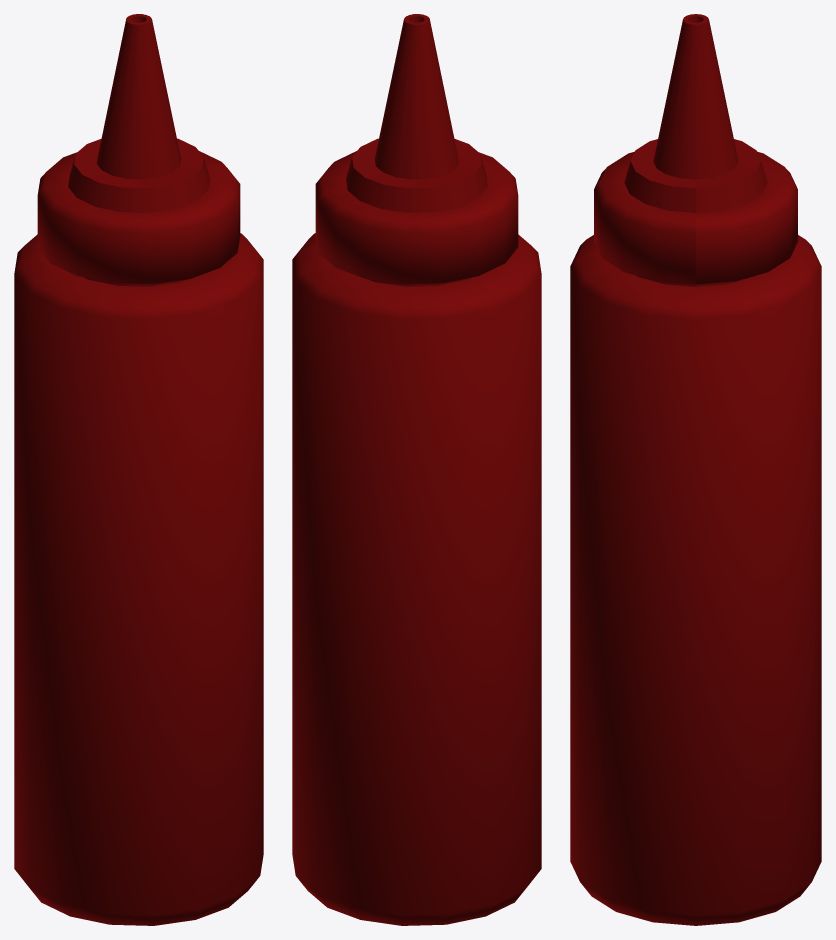
File: BottleKetchup.fbx
The picture shows the model from 3 angles, left to right: view 1: azimuth 30°, elevation 25°; view 2: azimuth 150°, elevation 25°; view 3: azimuth 270°, elevation 25°; orthographic projection.
Parts seen in each view (by area): view 1: Bottle Ketchup; view 2: Bottle Ketchup; view 3: Bottle Ketchup.
Boxes of the visible parts, x1,y1,x2,y2 form: Bottle Ketchup: (14, 14, 263, 925); Bottle Ketchup: (292, 14, 541, 925); Bottle Ketchup: (570, 14, 821, 925).
Size of the model in its own units: 85.11 by 325 by 85.11.
